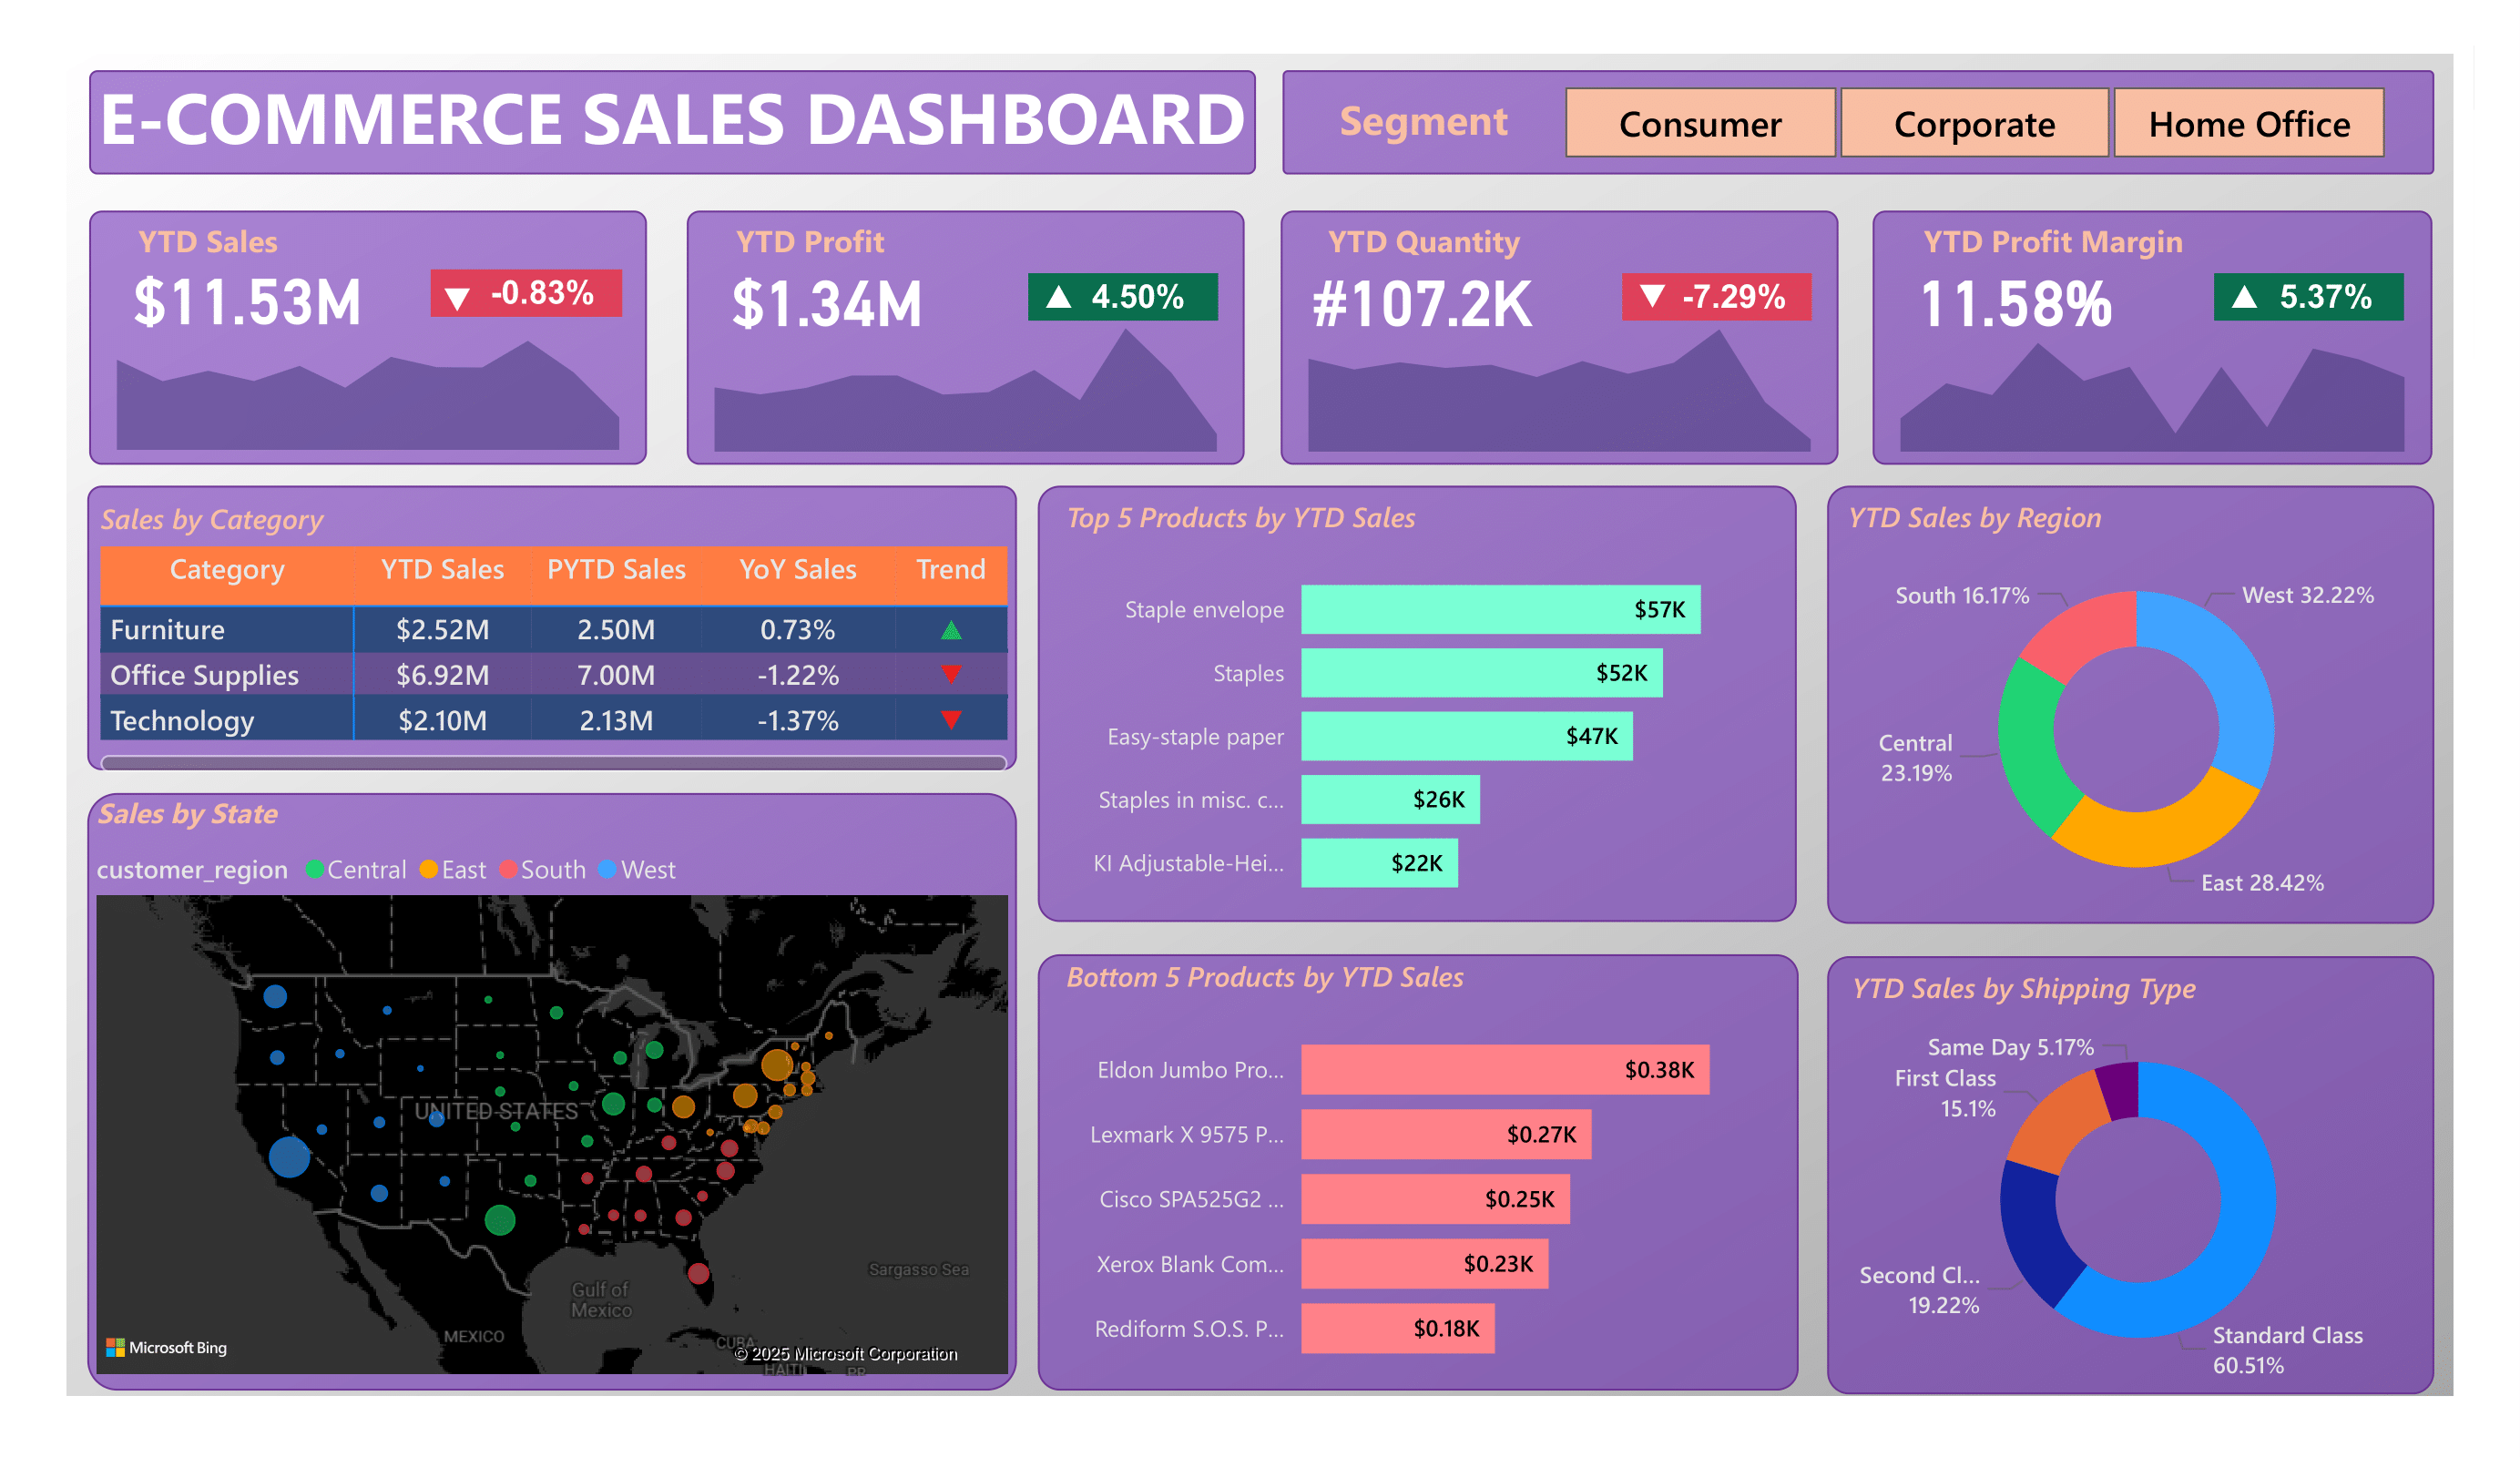

Layout of this report page (visuals, bound fields, positions):
{"tool":"powerbi","page":{"name":"Page 1","canvas":[1280,720],"ordinal":0},"visuals":[{"type":"shape","box":[22.9,12.7,615,55],"z":0},{"type":"textbox","box":[23.4,6.7,626.7,62],"z":1000},{"type":"shape","box":[22.9,87.5,294.3,133.6],"z":2000},{"type":"card","fields":{"Values":["ecommerce_data.YTD Sales"]},"box":[32.1,105.8,149.3,52.9],"z":3000},{"type":"areaChart","fields":{"Category":["Calendar.Month"],"Y":["Sum(ecommerce_data.sales_per_order)"]},"box":[22.9,132,294.3,85.9],"z":4000},{"type":"shape","box":[203.3,117.9,100.2,25.4],"z":5000},{"type":"card","fields":{"Values":["ecommerce_data.YoY Sales"]},"box":[227.2,117.9,70,27],"z":6000},{"type":"card","fields":{"Values":["ecommerce_data.Sales Icon"]},"box":[202,120.9,30.2,28.6],"z":7000},{"type":"textbox","box":[44.3,86.8,95.4,38.2],"z":8000},{"type":"shape","box":[337.8,87.5,294.3,133.6],"z":9000},{"type":"card","fields":{"Values":["ecommerce_data.YTD Profit"]},"box":[338.3,107.1,147.9,52.5],"z":10000},{"type":"areaChart","fields":{"Category":["Calendar.Month"],"Y":["Sum(ecommerce_data.profit_per_order)"]},"box":[337.9,133.2,294.3,85.9],"z":11000},{"type":"shape","box":[517.5,119.7,100.2,25.4],"z":12000},{"type":"card","fields":{"Values":["ecommerce_data.YoY Profit"]},"box":[541.4,119.7,70,27],"z":13000},{"type":"card","fields":{"Values":["ecommerce_data.Profit Icon"]},"box":[518.5,119.3,30.2,28.6],"z":14000},{"type":"textbox","box":[358.6,87,100.2,38.2],"z":15000},{"type":"shape","box":[651.2,87.5,294.3,133.6],"z":16000},{"type":"card","fields":{"Values":["ecommerce_data.YTD Concatenated Qty"]},"box":[651.7,107.1,147.9,52.5],"z":17000},{"type":"areaChart","fields":{"Category":["Calendar.Month"],"Y":["Sum(ecommerce_data.order_quantity)"]},"box":[651.2,133.2,294.3,85.9],"z":18000},{"type":"shape","box":[830.9,119.7,100.2,25.4],"z":19000},{"type":"card","fields":{"Values":["ecommerce_data.YoY Qty"]},"box":[854.8,119.7,70,27],"z":20000},{"type":"card","fields":{"Values":["ecommerce_data.Qty Icon"]},"box":[831.9,119.3,30.2,28.6],"z":21000},{"type":"textbox","box":[671.2,87.5,128.8,38.2],"z":22000},{"type":"shape","box":[963.3,87.5,294.3,133.6],"z":23000},{"type":"card","fields":{"Values":["ecommerce_data.YTD Profit Margin"]},"box":[963.8,107.1,147.9,52.5],"z":24000},{"type":"areaChart","fields":{"Category":["Calendar.Month"],"Y":["ecommerce_data.Profit Margin"]},"box":[963.4,133.2,294.3,85.9],"z":25000},{"type":"shape","box":[1143.1,119.7,100.2,25.4],"z":26000},{"type":"card","fields":{"Values":["ecommerce_data.YoY Profit Margin"]},"box":[1166.9,119.7,70,27],"z":27000},{"type":"card","fields":{"Values":["ecommerce_data.Profit Margin Icon"]},"box":[1143.6,119.3,30.2,28.6],"z":28000},{"type":"textbox","box":[984.6,87.5,159.1,38.2],"z":29000},{"type":"shape","box":[22.3,232.2,490,150],"z":30000},{"type":"pivotTable","title":"Sales by Category","fields":{"Rows":["ecommerce_data.category_name"],"Values":["ecommerce_data.YTD Sales","ecommerce_data.PYTD Sales","ecommerce_data.YoY Sales","ecommerce_data.Sales Icon"]},"box":[23.9,238.6,488.3,149.5],"z":31000},{"type":"shape","box":[22.3,394.5,489.9,314.9],"z":32000},{"type":"map","title":"Sales by State","fields":{"Y":["us_state_long_lat_codes.latitude"],"X":["us_state_long_lat_codes.longitude"],"Size":["ecommerce_data.YTD Sales"],"Series":["ecommerce_data.customer_region"]},"box":[22.3,394.5,489.9,311.8],"z":33000},{"type":"shape","box":[523.3,232.2,400,230],"z":34000},{"type":"shape","box":[523.3,478.8,400.8,230],"z":35000},{"type":"barChart","title":"Top 5 Products by YTD Sales","fields":{"Category":["ecommerce_data.product_name"],"Y":["ecommerce_data.YTD Sales"]},"box":[532.9,238.1,389.3,224.9],"z":36000},{"type":"barChart","title":"Bottom 5 Products by YTD Sales","fields":{"Category":["ecommerce_data.product_name"],"Y":["ecommerce_data.YTD Sales"]},"box":[532.9,480,389.3,228.7],"z":37000},{"type":"shape","box":[939.2,232.4,319.4,230.6],"z":38000},{"type":"shape","box":[939.2,480,319.4,230.6],"z":39000},{"type":"donutChart","title":"YTD Sales by Region","fields":{"Category":["ecommerce_data.customer_region"],"Y":["ecommerce_data.YTD Sales"]},"box":[944.9,238.1,313.7,224.9],"z":40000},{"type":"donutChart","title":"YTD Sales by Shipping Type","fields":{"Y":["ecommerce_data.YTD Sales"],"Category":["ecommerce_data.shipping_type"]},"box":[946.8,485.7,311.8,224.9],"z":41000},{"type":"shape","box":[652,13.2,606.6,54.8],"z":42000},{"type":"slicer","fields":{"Values":["ecommerce_data.customer_segment"]},"box":[774.8,15.1,481.9,51],"z":43000},{"type":"textbox","box":[676.5,18.9,111.5,45.4],"z":44000}]}

Visuals, with their boxes in screenshot pixels (x1, y1, x2, y2):
shape: select_region(89, 70, 1240, 173)
textbox: select_region(90, 58, 1263, 175)
shape: select_region(89, 209, 640, 460)
card - ecommerce_data.YTD Sales: select_region(106, 244, 385, 343)
areaChart - Calendar.Month x Sum(ecommerce_data.sales_per_order): select_region(89, 293, 640, 453)
shape: select_region(426, 267, 615, 314)
card - ecommerce_data.YoY Sales: select_region(472, 267, 603, 317)
card - ecommerce_data.Sales Icon: select_region(424, 272, 481, 326)
textbox: select_region(129, 209, 308, 280)
shape: select_region(678, 209, 1229, 460)
card - ecommerce_data.YTD Profit: select_region(679, 247, 956, 345)
areaChart - Calendar.Month x Sum(ecommerce_data.profit_per_order): select_region(678, 295, 1229, 456)
shape: select_region(1015, 270, 1203, 318)
card - ecommerce_data.YoY Profit: select_region(1060, 270, 1191, 321)
card - ecommerce_data.Profit Icon: select_region(1017, 270, 1074, 323)
textbox: select_region(718, 209, 905, 280)
shape: select_region(1265, 209, 1817, 460)
card - ecommerce_data.YTD Concatenated Qty: select_region(1267, 247, 1544, 345)
areaChart - Calendar.Month x Sum(ecommerce_data.order_quantity): select_region(1265, 295, 1817, 456)
shape: select_region(1602, 270, 1790, 318)
card - ecommerce_data.YoY Qty: select_region(1647, 270, 1778, 321)
card - ecommerce_data.Qty Icon: select_region(1604, 270, 1660, 323)
textbox: select_region(1303, 209, 1544, 281)
shape: select_region(1850, 209, 2401, 460)
card - ecommerce_data.YTD Profit Margin: select_region(1851, 247, 2127, 345)
areaChart - Calendar.Month x ecommerce_data.Profit Margin: select_region(1850, 295, 2402, 456)
shape: select_region(2187, 270, 2374, 318)
card - ecommerce_data.YoY Profit Margin: select_region(2231, 270, 2362, 321)
card - ecommerce_data.Profit Margin Icon: select_region(2188, 270, 2244, 323)
textbox: select_region(1890, 209, 2188, 281)
shape: select_region(87, 481, 1005, 761)
"Sales by Category" pivotTable: select_region(91, 493, 1005, 772)
shape: select_region(87, 785, 1005, 1374)
"Sales by State" map: select_region(87, 785, 1005, 1369)
shape: select_region(1025, 481, 1775, 912)
shape: select_region(1025, 942, 1777, 1373)
"Top 5 Products by YTD Sales" barChart: select_region(1044, 492, 1773, 912)
"Bottom 5 Products by YTD Sales" barChart: select_region(1044, 944, 1773, 1373)
shape: select_region(1805, 481, 2403, 912)
shape: select_region(1805, 944, 2403, 1377)
"YTD Sales by Region" donutChart: select_region(1815, 492, 2403, 912)
"YTD Sales by Shipping Type" donutChart: select_region(1819, 955, 2403, 1377)
shape: select_region(1267, 71, 2403, 173)
slicer - ecommerce_data.customer_segment: select_region(1497, 74, 2400, 169)
textbox: select_region(1312, 81, 1522, 167)
